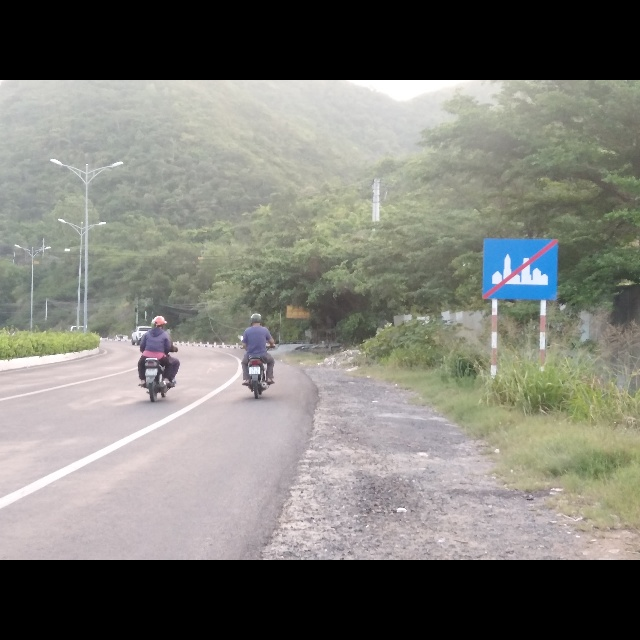Hết khu đông dân cư: (480, 236, 559, 303)
